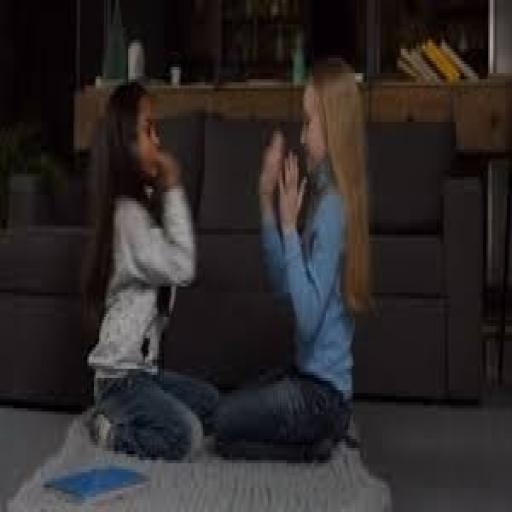clapping: (213, 52, 372, 463), (82, 76, 218, 463)
